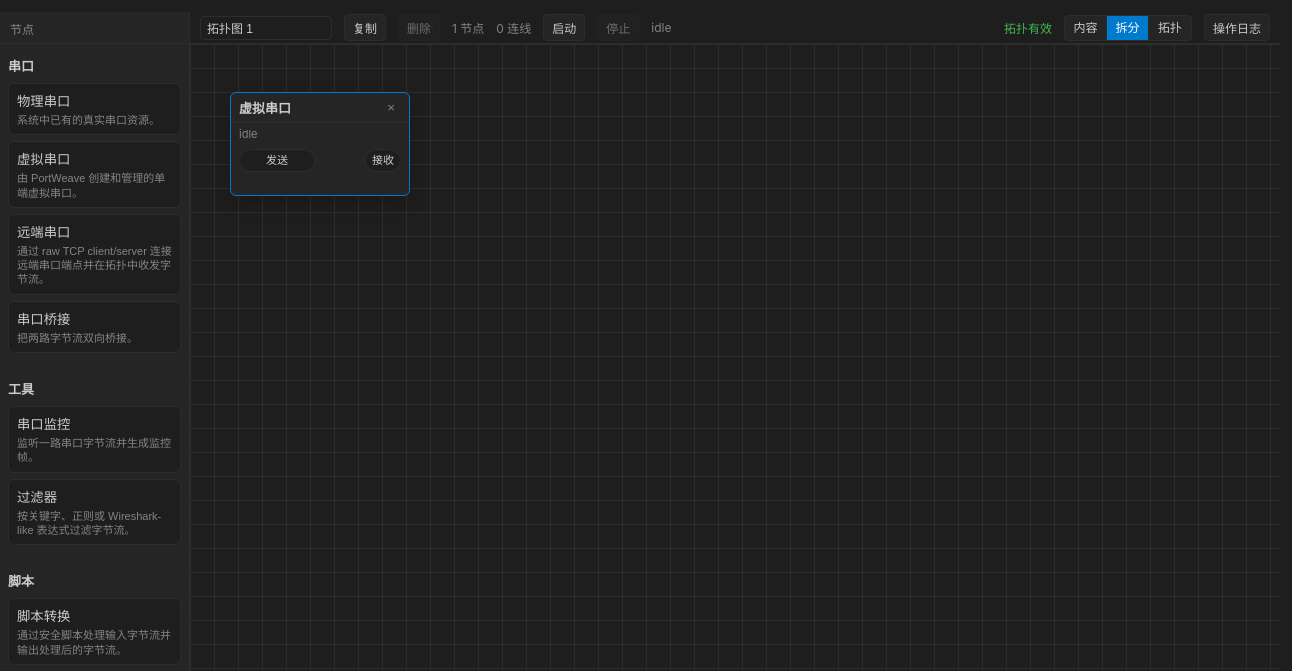
Test: SerialGraphPanel › shows start failures without bubbling native click errors
The image size is (1292, 671).
Click the button with test id "serial-graph-start": (564, 28) [543,14,585,41]
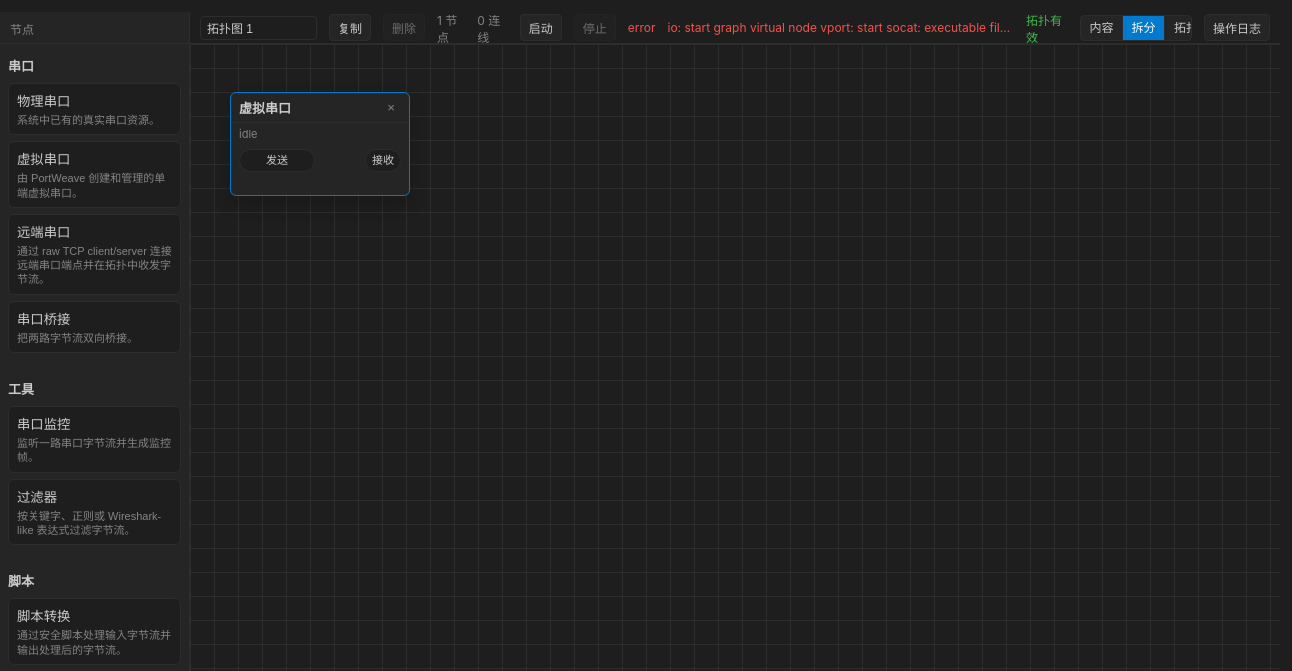
Expected: the text "error" is shown, [628,20,656,35]
Expected: the text with test id "serial-graph-runtime-status" reads "error", [628,20,656,35]
Expected: the text with test id "serial-graph-runtime-error" shows "start socat", [668,20,1064,35]
